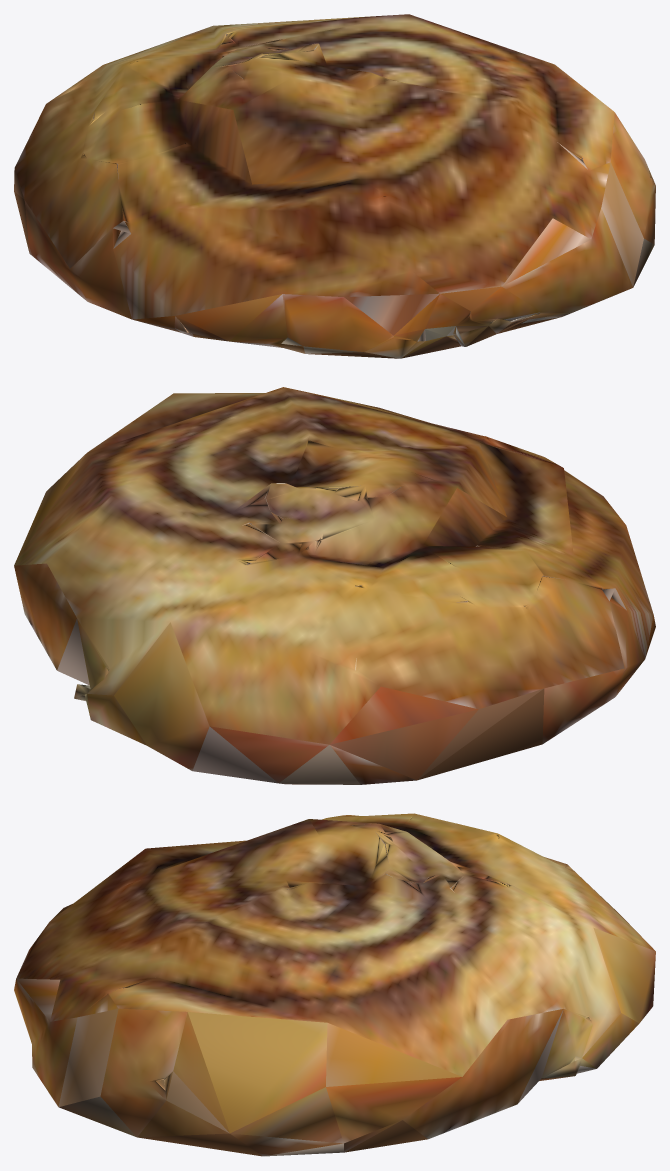
Rendered from cinnamon_850.obj.
The picture shows the model from 3 angles, top to bottom: view 1: azimuth 30°, elevation 25°; view 2: azimuth 150°, elevation 25°; view 3: azimuth 270°, elevation 25°; orthographic projection. The views are drawn at different scales.
Bounding box in the file's own units: 110 × 33.82 × 114.
Materials: 1 (1 with a texture image).
